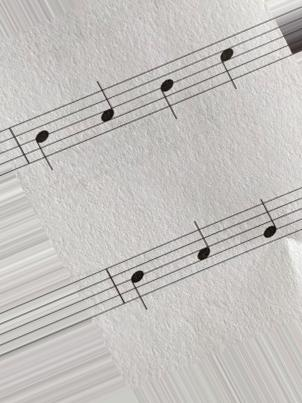A: (186, 218, 217, 282), (89, 79, 118, 134)
B: (31, 113, 61, 174), (155, 62, 182, 129), (124, 259, 156, 312)
G: (256, 196, 284, 250)
HC: (215, 37, 242, 99)
